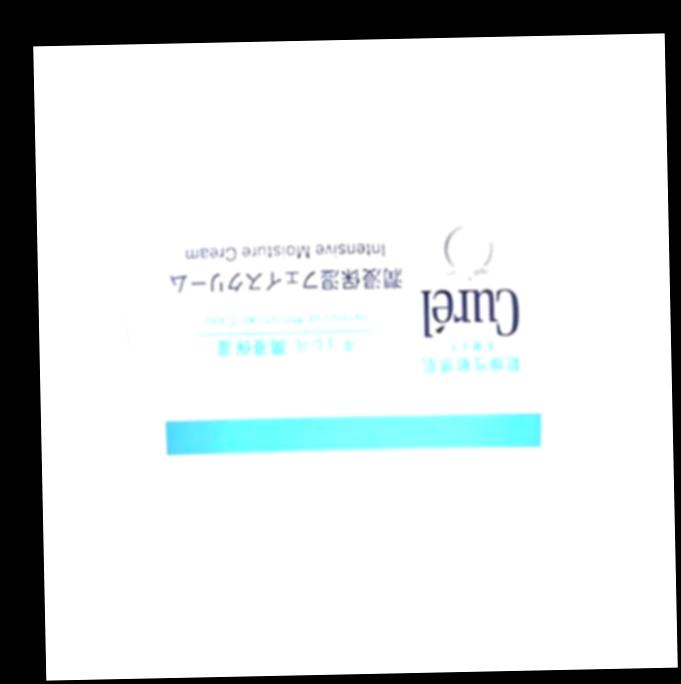cosmetic: (120, 197, 590, 543)
